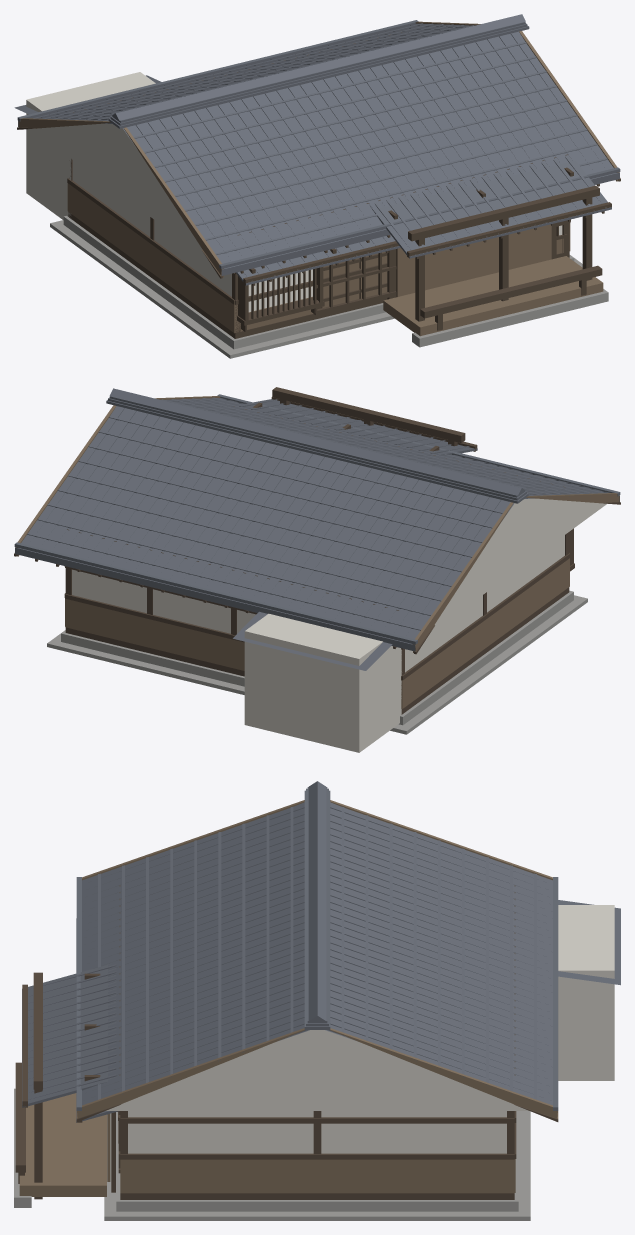
Rendered from family_small_merchant_04.glb.
The picture shows the model from 3 angles, top to bottom: view 1: azimuth 30°, elevation 25°; view 2: azimuth 150°, elevation 25°; view 3: azimuth 270°, elevation 25°; orthographic projection. The views are drawn at different scales.
Visible parts, largest first — view 1: family_small_merchant_04; view 2: family_small_merchant_04; view 3: family_small_merchant_04.
Boxes of the visible parts, x1,y1,x2,y2 form: family_small_merchant_04: (14,14,620,358); family_small_merchant_04: (14,387,620,752); family_small_merchant_04: (14,781,620,1220).
Size of the model in its own units: 10.78 by 4.66 by 11.7.
